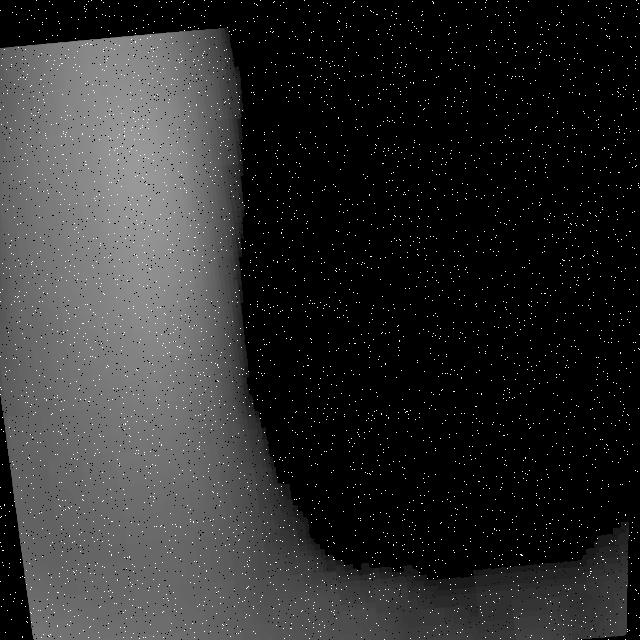person: (1, 11, 322, 631)
